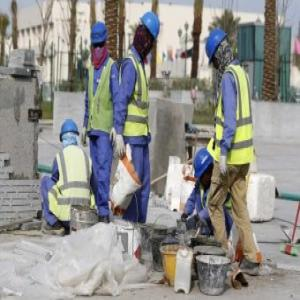blue: (205, 25, 231, 70), (136, 9, 161, 52), (194, 148, 214, 190), (90, 21, 110, 59), (60, 118, 81, 147)
